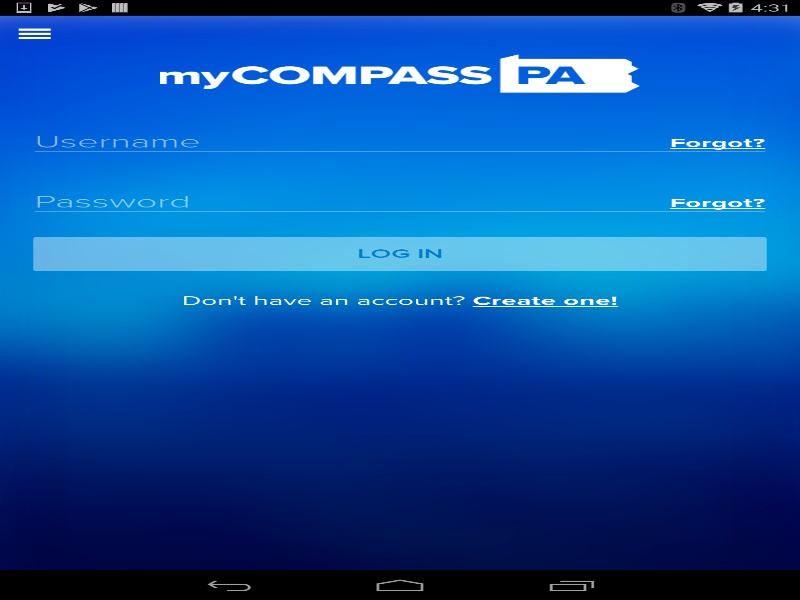Button: (33, 237, 766, 270)
Input: (29, 120, 786, 157), (29, 180, 786, 217)
